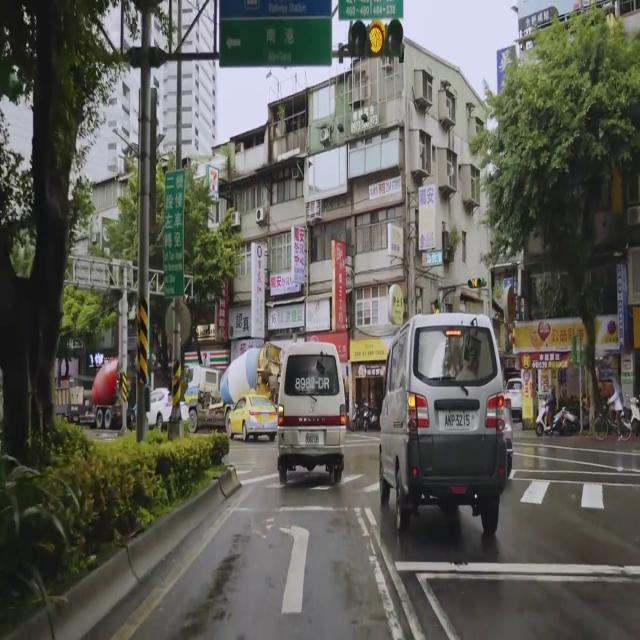yellow light: (348, 19, 404, 57)
